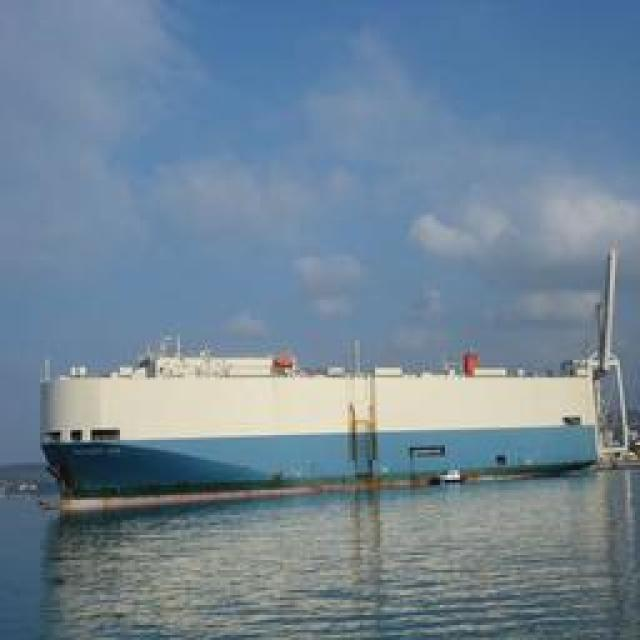ship2: (35, 331, 598, 513)
